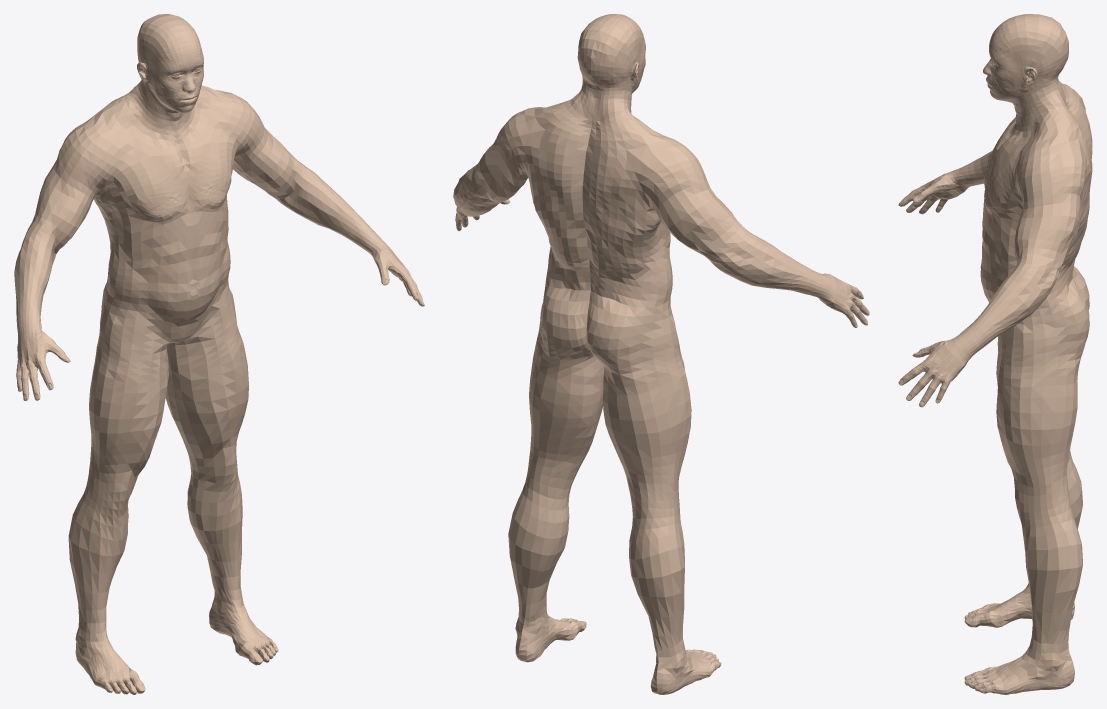
Rendered from male-adult-max-high.glb.
3 renders of one model, left to right at view 1: azimuth 30°, elevation 25°; view 2: azimuth 150°, elevation 25°; view 3: azimuth 270°, elevation 25°, orthographic.
Parts seen in each view (by area): view 1: world; view 2: world; view 3: world.
Part boxes in pixels (x1=…): world: x1=14, y1=14, x2=424, y2=694; world: x1=453, y1=14, x2=869, y2=694; world: x1=898, y1=14, x2=1092, y2=694.
Bounding box in the file's own units: 1.28 × 1.96 × 0.5415.
